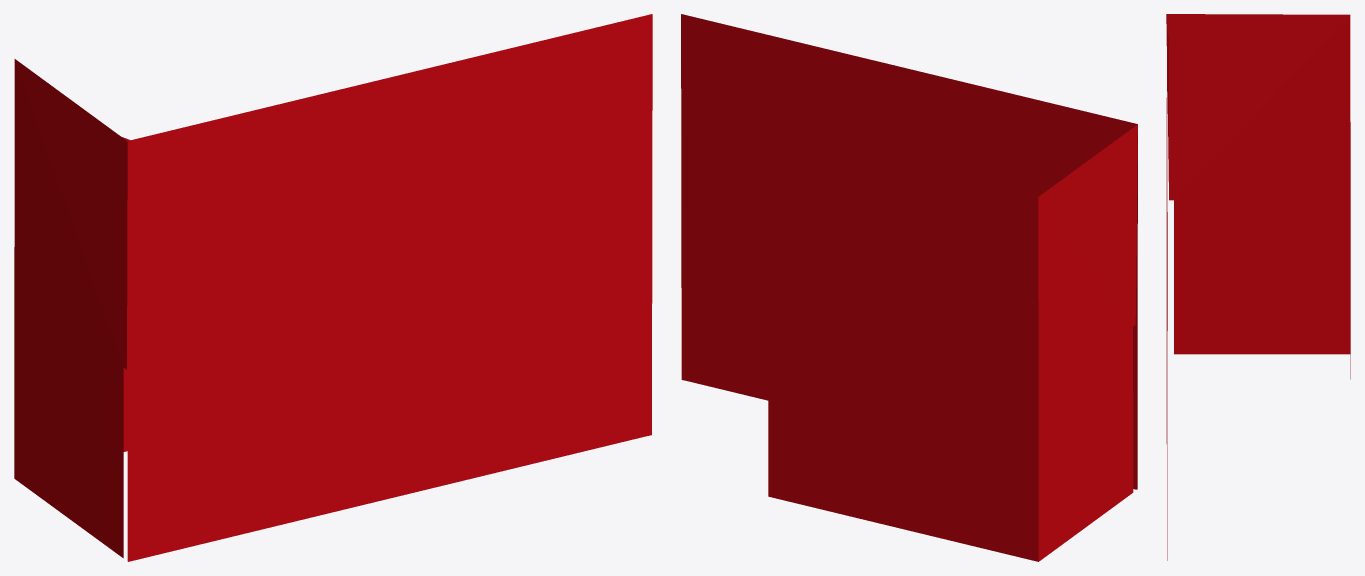
Rendered from duvar.fbx.
The picture shows the model from 3 angles, left to right: view 1: azimuth 30°, elevation 25°; view 2: azimuth 150°, elevation 25°; view 3: azimuth 270°, elevation 25°; orthographic projection. The views are drawn at different scales.
Parts seen in each view (by area): view 1: Cube.198; view 2: Cube.198; view 3: Cube.198.
Part boxes in pixels (<box>): Cube.198: <box>14,14,652,561</box>; Cube.198: <box>681,14,1137,561</box>; Cube.198: <box>1166,14,1350,560</box>.
Bounding box in the file's own units: 392 × 301 × 147.
